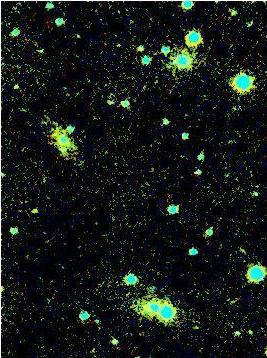star: (237, 322, 267, 352)
